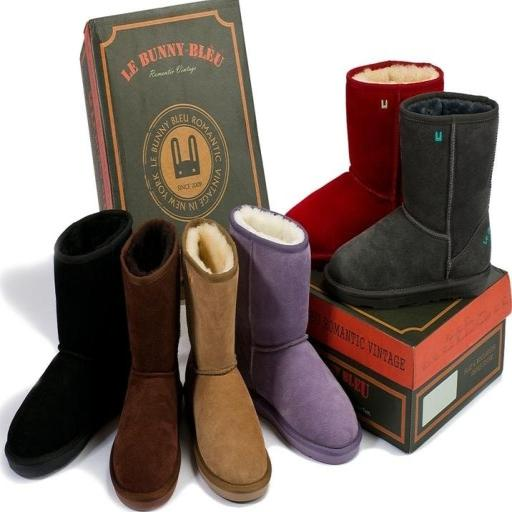boots: (324, 93, 498, 308), (229, 205, 362, 464), (5, 210, 132, 477), (287, 61, 443, 267), (182, 219, 271, 502), (110, 219, 182, 510)
